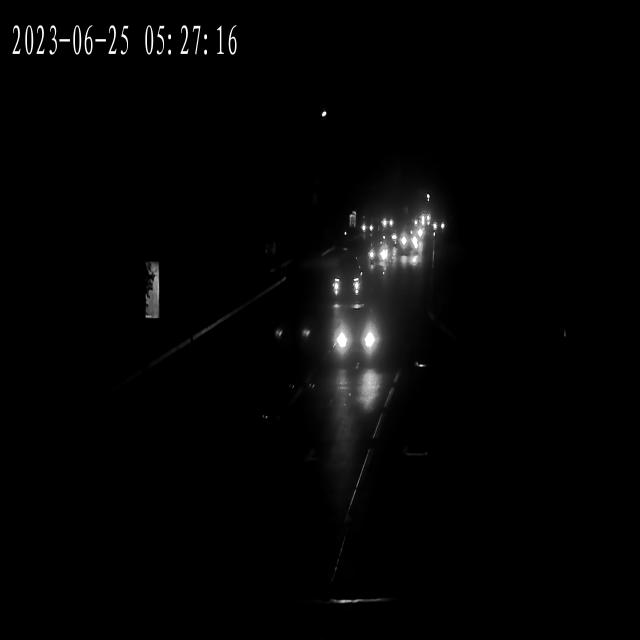Car: (332, 317, 382, 371), (332, 259, 367, 301), (364, 233, 391, 270), (400, 227, 420, 264), (360, 214, 375, 239), (382, 209, 396, 232), (431, 218, 446, 236)
